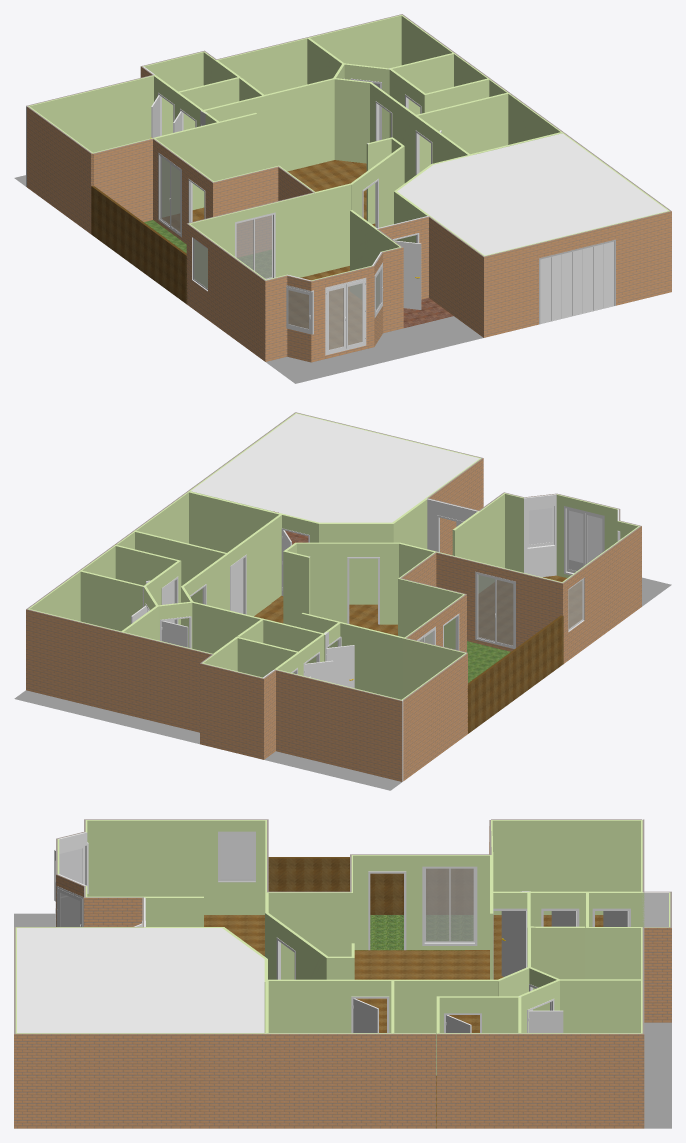
Rendered from Casa_Alexander.obj.glb.
3 renders of one model, top to bottom at view 1: azimuth 30°, elevation 25°; view 2: azimuth 150°, elevation 25°; view 3: azimuth 270°, elevation 25°, orthographic. The views are drawn at different scales.
Parts seen in each view (by area): view 1: Asset3DLoader.sceneRoot; view 2: Asset3DLoader.sceneRoot; view 3: Asset3DLoader.sceneRoot.
Boxes of the visible parts, box(x1,y1,x2,y2) form: Asset3DLoader.sceneRoot: box(14, 14, 671, 383); Asset3DLoader.sceneRoot: box(14, 412, 671, 790); Asset3DLoader.sceneRoot: box(14, 819, 671, 1128).
Size of the model in its own units: 1219 by 250 by 1578.
Materials: 15 (5 with a texture image).
